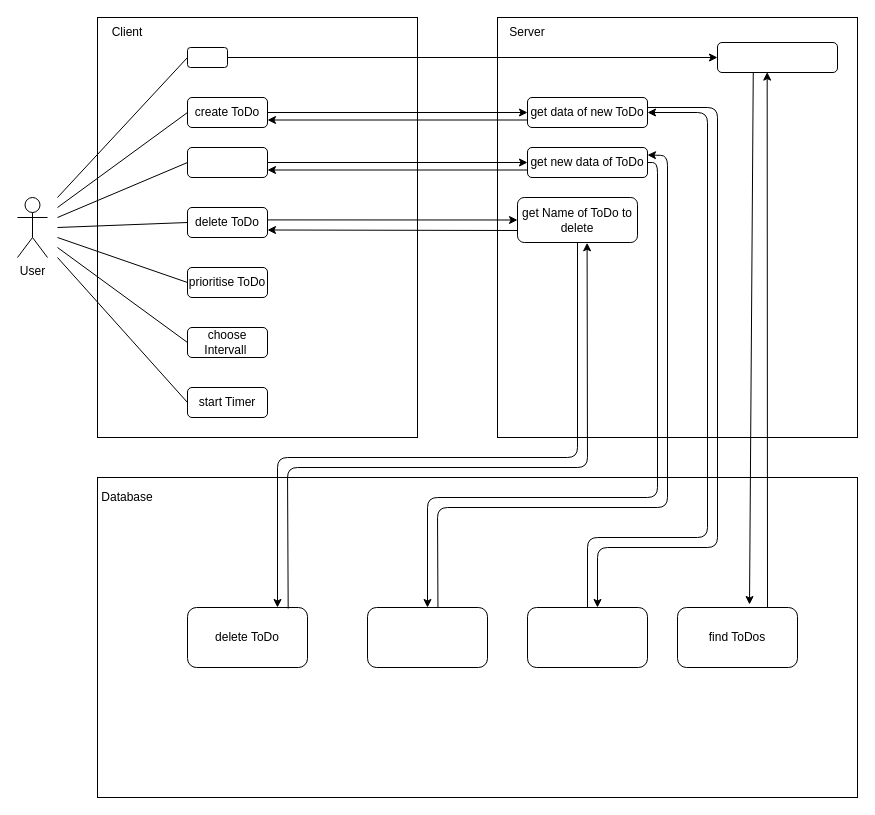
This 875x815 diagram has some shape labels left out. The centre of each missing label's shape, as x and y in pixels:
delete ToDo and insert new one with new information: [427,637]
edit ToDo: [227,162]
find ToDos in Database: [777,57]
insert new ToDo: [587,637]
start: [207,57]
